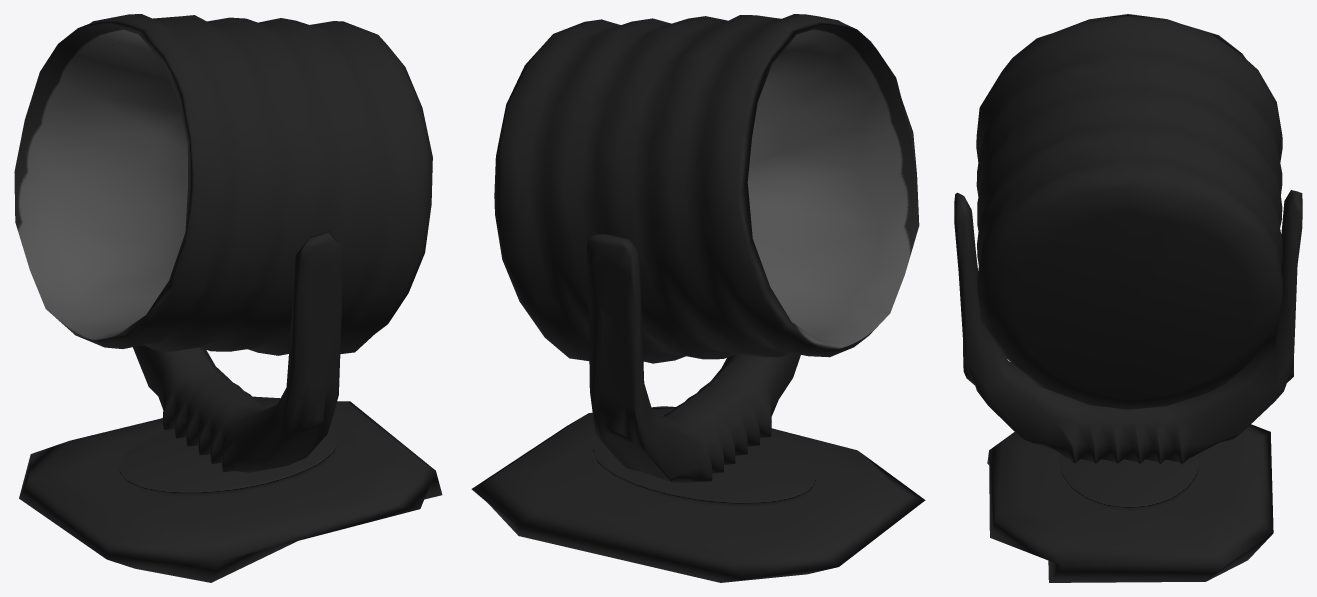
The model's file is light.obj.
3 views of the same model, side by side, from view 1: azimuth 30°, elevation 25°; view 2: azimuth 150°, elevation 25°; view 3: azimuth 270°, elevation 25° (orthographic). The views are drawn at different scales.
Visible parts, largest first — view 1: light2:initialShadingGroup; view 2: light2:initialShadingGroup; view 3: light2:initialShadingGroup.
Part boxes in pixels (left/top/right/bottom): light2:initialShadingGroup: left=14, top=14, right=442, bottom=582; light2:initialShadingGroup: left=471, top=14, right=925, bottom=582; light2:initialShadingGroup: left=954, top=14, right=1302, bottom=582.
Size of the model in its own units: 18.29 by 25.29 by 17.44.
